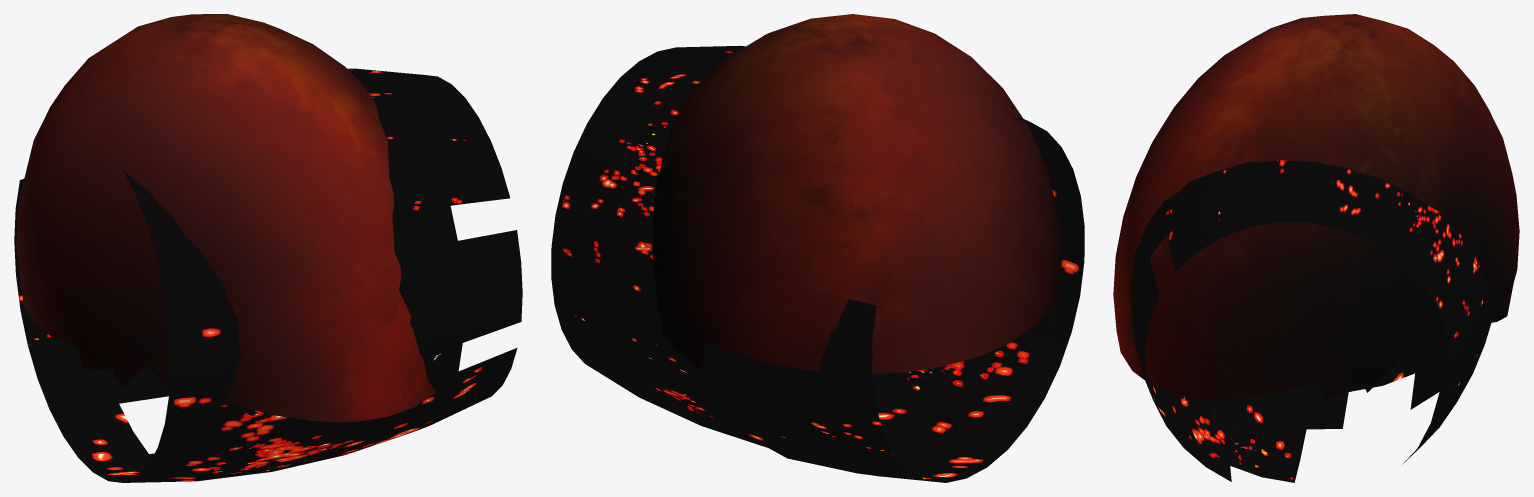
Rendered from sky2.glb.
3 views of the same model, side by side, from view 1: azimuth 30°, elevation 25°; view 2: azimuth 150°, elevation 25°; view 3: azimuth 270°, elevation 25° (orthographic). The views are drawn at different scales.
Parts seen in each view (by area): view 1: skybox, flame; view 2: skybox, flame; view 3: skybox, flame.
Part boxes in pixels (box(x1,y1,x2,y2)): skybox: box(16, 14, 435, 421); flame: box(14, 68, 522, 482); skybox: box(652, 14, 1060, 373); flame: box(551, 45, 1084, 482); skybox: box(1113, 14, 1519, 402); flame: box(1130, 160, 1491, 482).
Size of the model in its own units: 1646 by 1640 by 1538.
2 materials, 2 textured.
